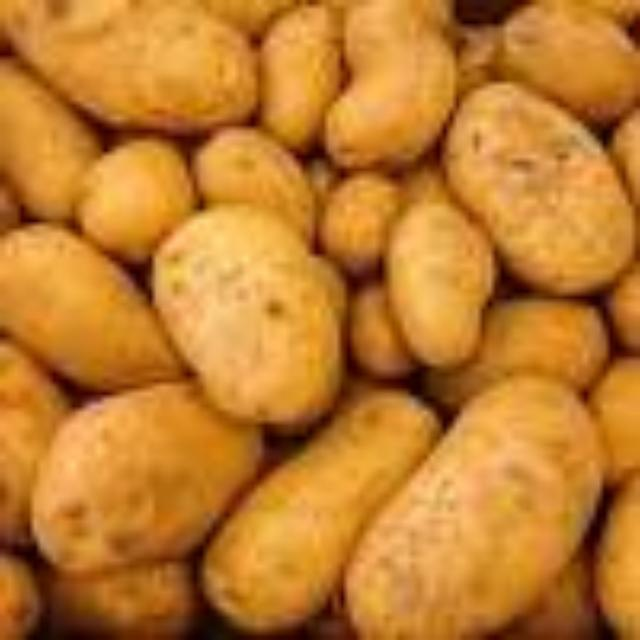Diseased-fungal potato: (148, 204, 352, 434)
Potato: (370, 182, 504, 384), (70, 136, 202, 266)
